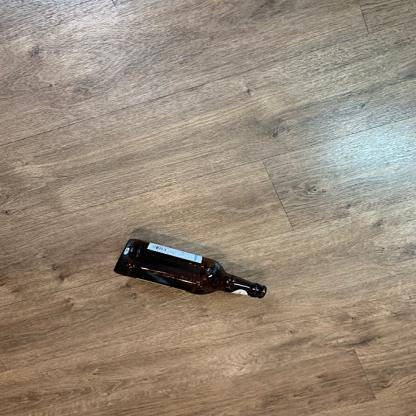trash: (111, 234, 270, 301)
